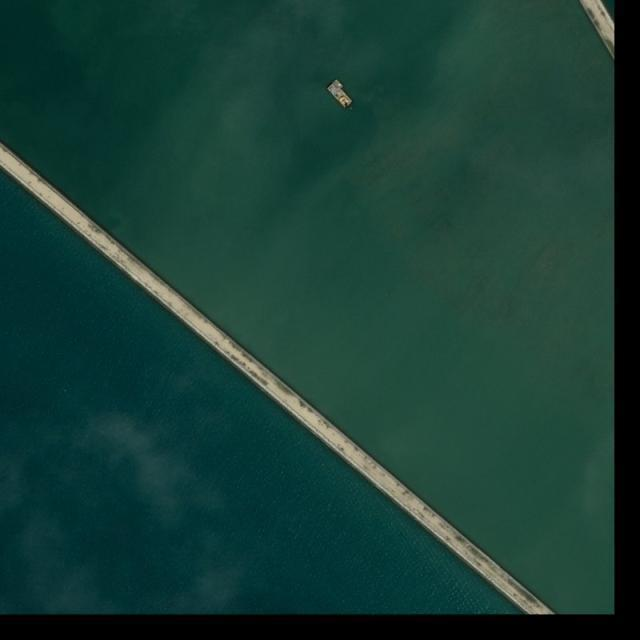ship: (326, 82, 354, 111), (334, 79, 345, 89)
